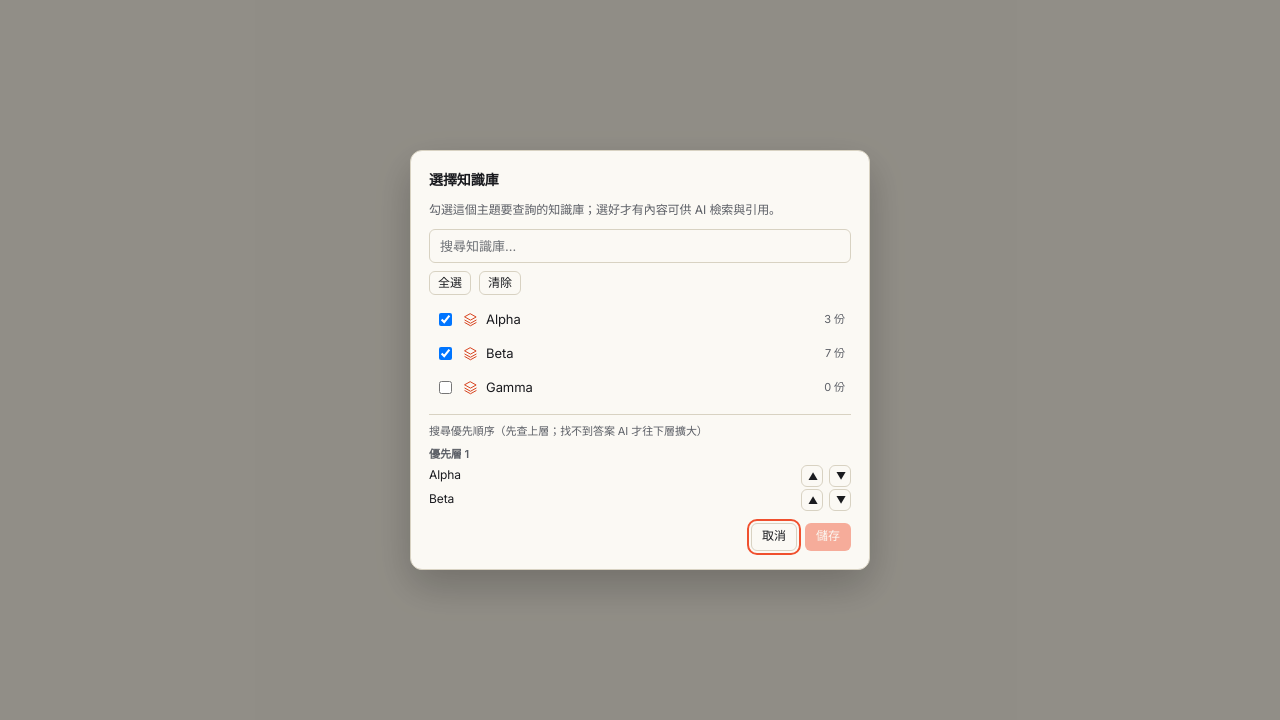
Test: CollectionsPickerModal › changing only a tier (no selection change) enables save
Expected: the text "Alpha 3 份" is shown, [439,311,845,327]
Expected: the button with test id "collections-save" is disabled, [805,523,851,551]
Click the button with test id "tier-down-b" at (840, 500), box [829,489,851,511]
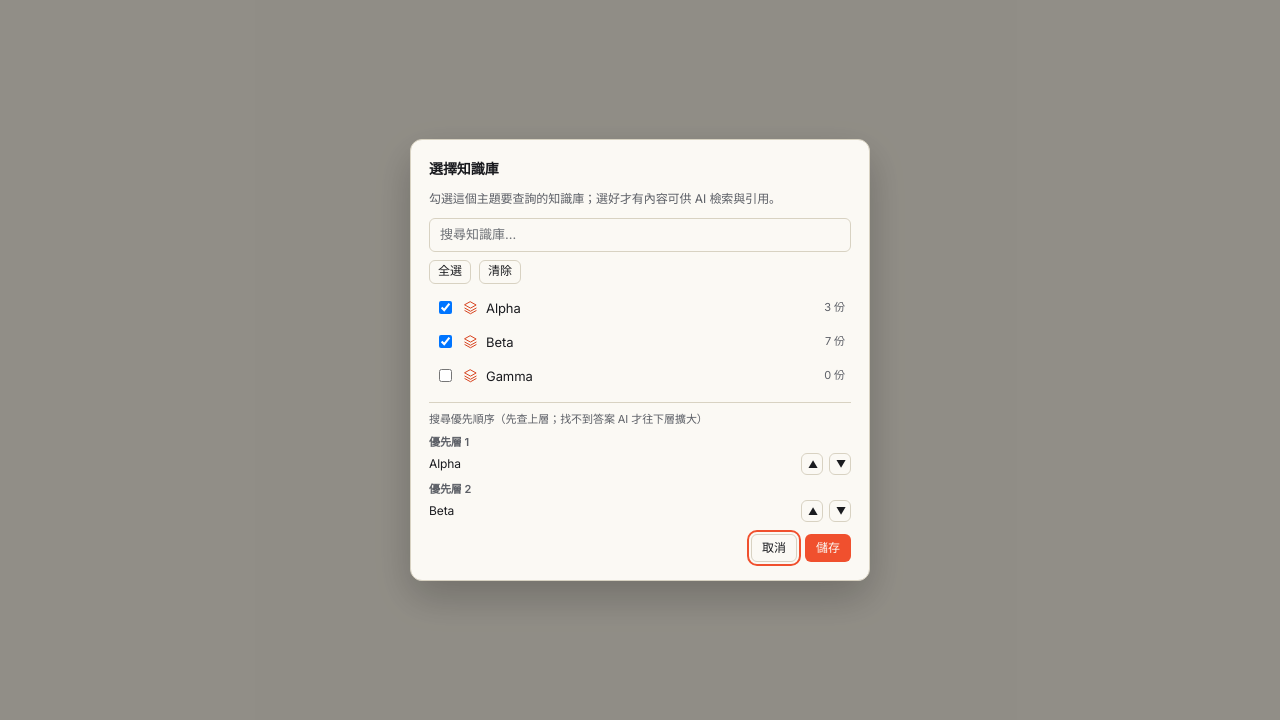
Expected: the button with test id "collections-save" is enabled, [805,534,851,562]
